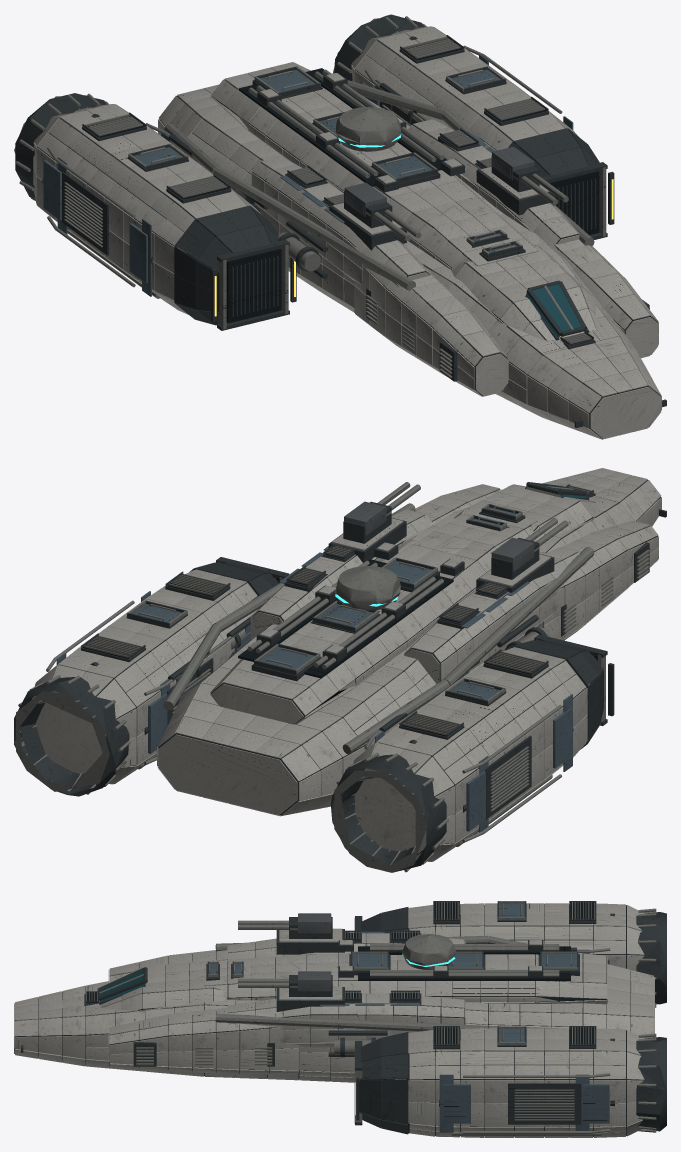
Rendered from model-reduced.glb.
3 renders of one model, top to bottom at view 1: azimuth 30°, elevation 25°; view 2: azimuth 150°, elevation 25°; view 3: azimuth 270°, elevation 25°, orthographic. The views are drawn at different scales.
Visible parts, largest first — view 1: pale-steel-0, pale-steel-1, dark-structure, machined-alloy, pale-steel-2, recess-black, blue-grey-1, armour-2, canopy-glass, profiled-drive, armoured-central-hull; view 2: pale-steel-0, machined-alloy, dark-structure, pale-steel-1, pale-steel-2, blue-grey-1, recess-black, armour-2, profiled-drive, armoured-central-hull; view 3: pale-steel-0, pale-steel-1, dark-structure, machined-alloy, pale-steel-2, blue-grey-1, recess-black, profiled-drive, armour-2, raised-keel, armoured-central-hull, forward-cheek (+2 smaller).
Boxes of the visible parts, x1,y1,x2,y2 form: pale-steel-0: (33, 26, 661, 438); pale-steel-1: (159, 62, 661, 439); dark-structure: (15, 14, 666, 427); machined-alloy: (14, 16, 649, 378); pale-steel-2: (158, 73, 661, 439); recess-black: (93, 42, 599, 344); blue-grey-1: (43, 54, 573, 296); armour-2: (344, 146, 534, 216); canopy-glass: (525, 284, 587, 337); profiled-drive: (37, 40, 513, 246); armoured-central-hull: (159, 96, 660, 438); pale-steel-0: (32, 475, 661, 861); machined-alloy: (16, 482, 649, 872); dark-structure: (14, 482, 666, 872); pale-steel-1: (157, 471, 661, 811); pale-steel-2: (158, 468, 652, 816); blue-grey-1: (56, 507, 572, 832); recess-black: (83, 552, 597, 736); armour-2: (344, 501, 534, 571); profiled-drive: (96, 583, 585, 855); armoured-central-hull: (158, 480, 660, 815); pale-steel-0: (14, 903, 654, 1137); pale-steel-1: (15, 933, 653, 1082); dark-structure: (21, 901, 666, 1134); machined-alloy: (86, 901, 656, 1135); pale-steel-2: (15, 933, 653, 1080); blue-grey-1: (209, 903, 609, 1132); recess-black: (87, 903, 594, 1044); profiled-drive: (410, 904, 642, 1136); armour-2: (298, 913, 331, 991); raised-keel: (215, 954, 606, 1002); armoured-central-hull: (15, 971, 653, 1080); forward-cheek: (109, 951, 298, 1073).
Bounding box in the file's own units: 33.82 × 12.09 × 55.19.
12 materials, 9 textured.
